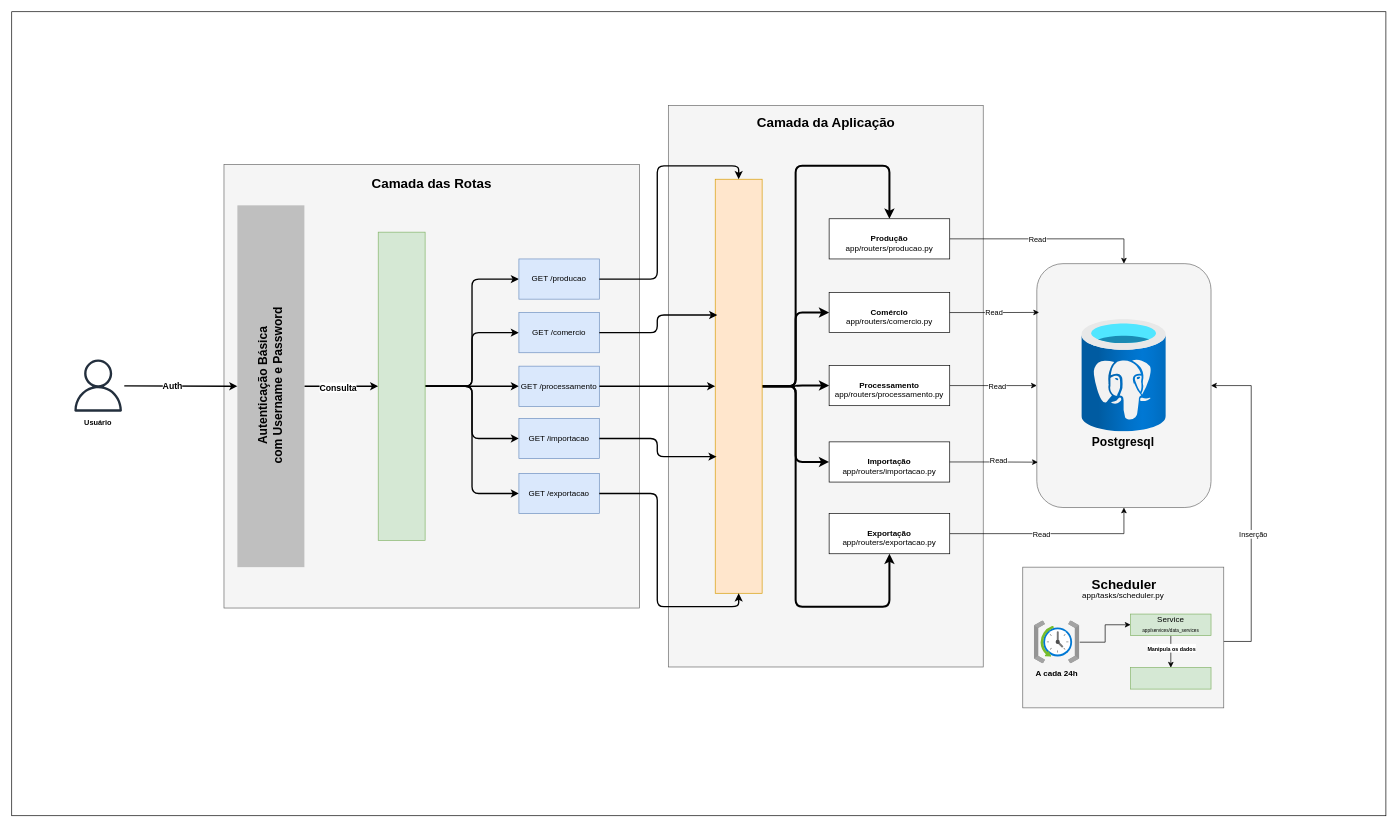
The diagram is 1398 pixels wide and 827 high, and some of its shapes have lost their labels. Here are the shapes that lost their labels. From the top down, the centre of each, then its label:
At pixel 401 385: "API".
At pixel 738 386: "Fast API".
At pixel 1170 678: "Embrapa CSV Files".
